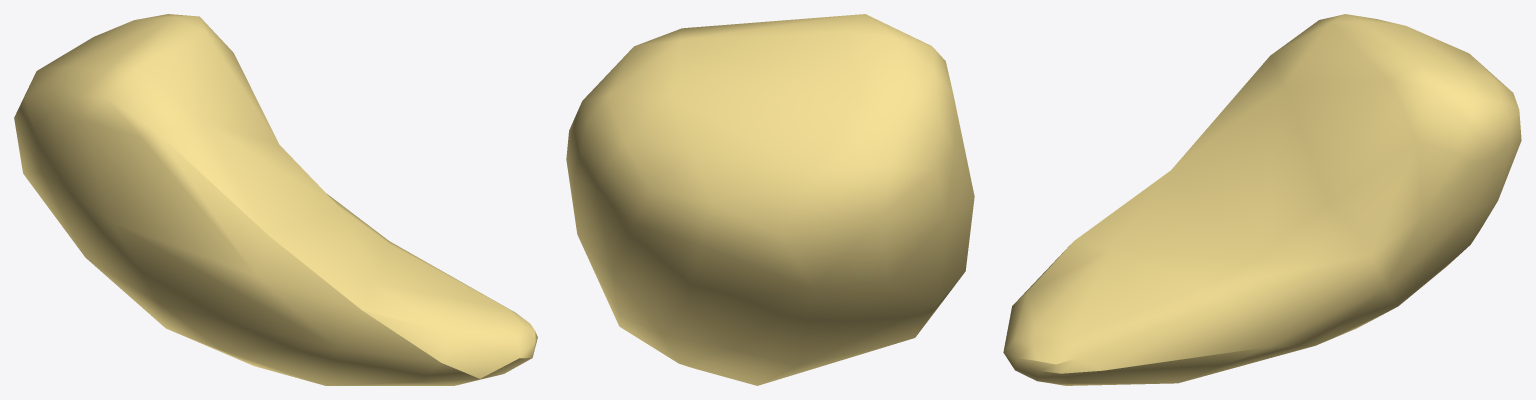
File: fma73304_fj1766.glb
3 renders of one model, left to right at view 1: azimuth 30°, elevation 25°; view 2: azimuth 150°, elevation 25°; view 3: azimuth 270°, elevation 25°, orthographic. The views are drawn at different scales.
Parts seen in each view (by area): view 1: FMA73304_FJ1766; view 2: FMA73304_FJ1766; view 3: FMA73304_FJ1766.
Boxes of the visible parts, x1,y1,x2,y2 form: FMA73304_FJ1766: (14,14,537,385); FMA73304_FJ1766: (566,14,974,385); FMA73304_FJ1766: (1003,14,1521,385).
Bounding box in the file's own units: 0.00843 × 0.00688 × 0.0114.
